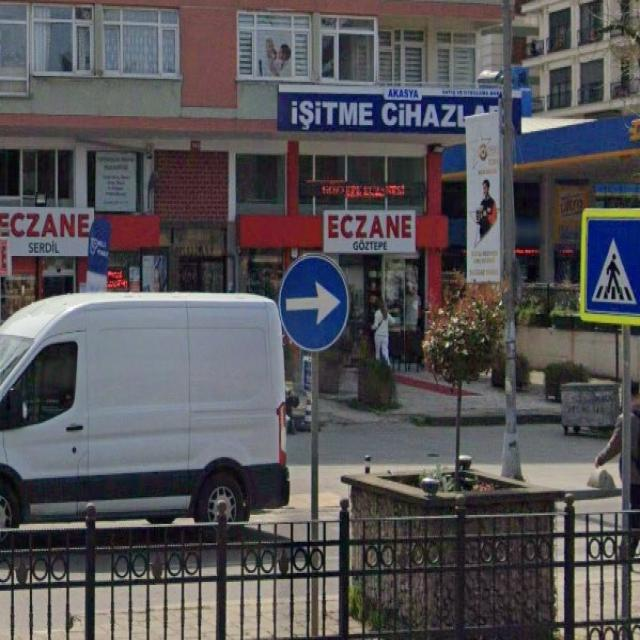Turn Right: (281, 262, 351, 350)
